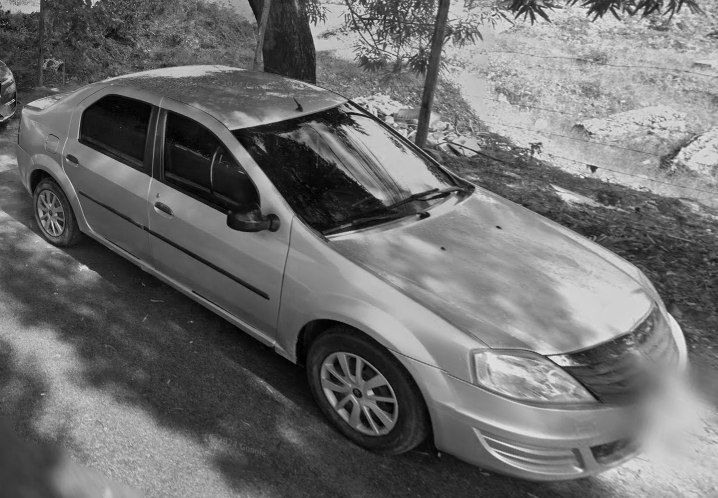car: (17, 63, 703, 476)
